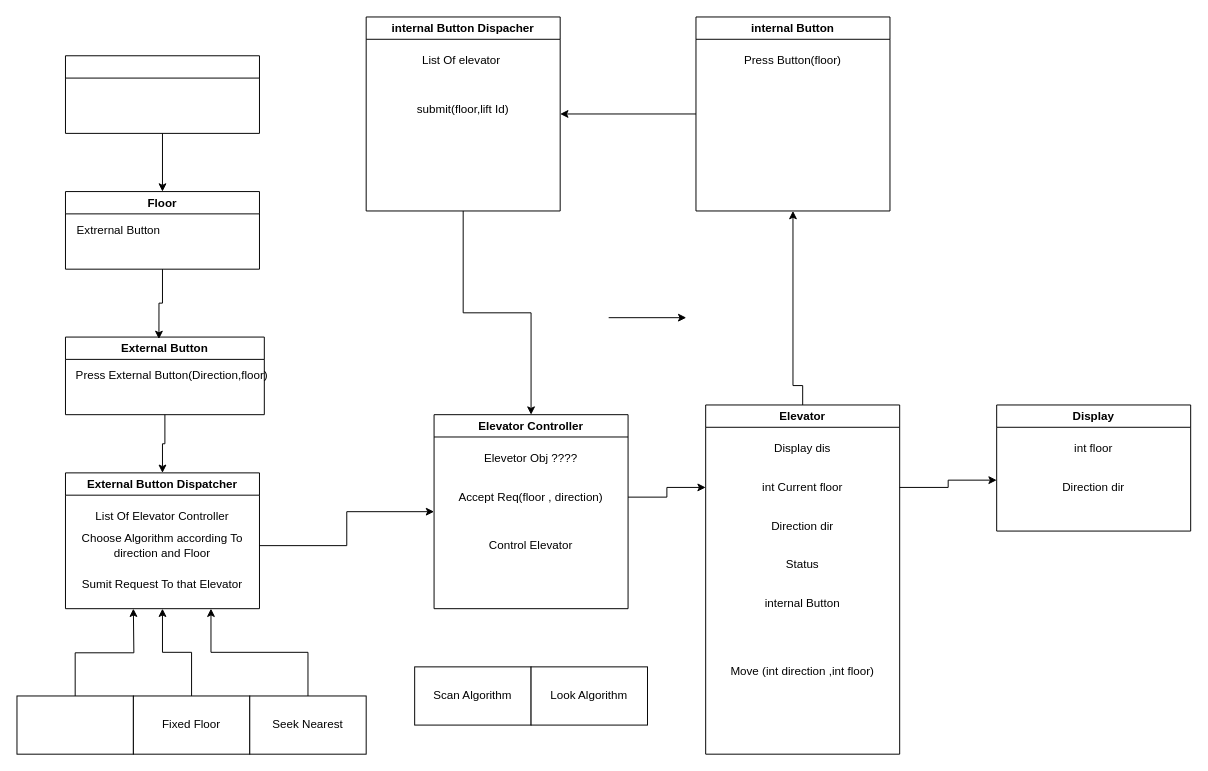
Some shapes in this 1208 by 771 pixel diagram are drawn without their labels. The centre of each missing label's shape, as x and y in pixels:
"Building" belongs at (162,94).
"Odd Even" belongs at (74,724).
